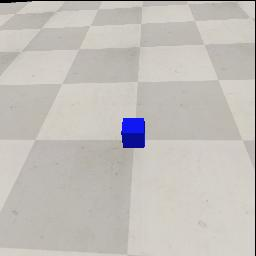box: (121, 118, 145, 148)
